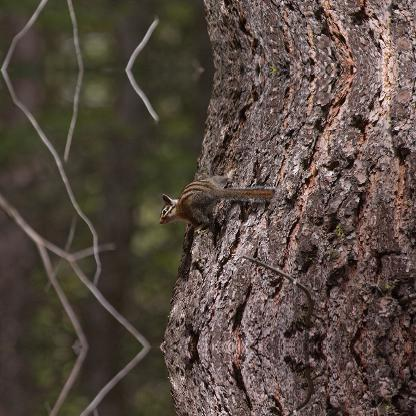Squirrel: (156, 176, 274, 234)
